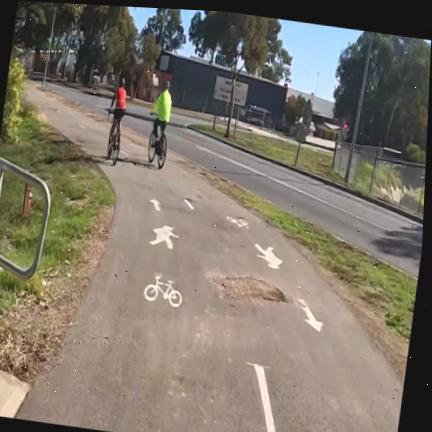Bike_Lane: (21, 100, 403, 432)
